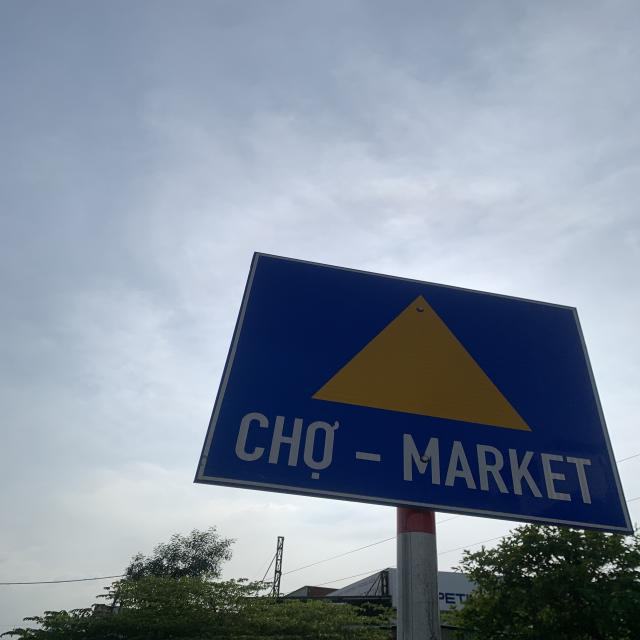Cho_Quay_Xe: (200, 250, 630, 532)
